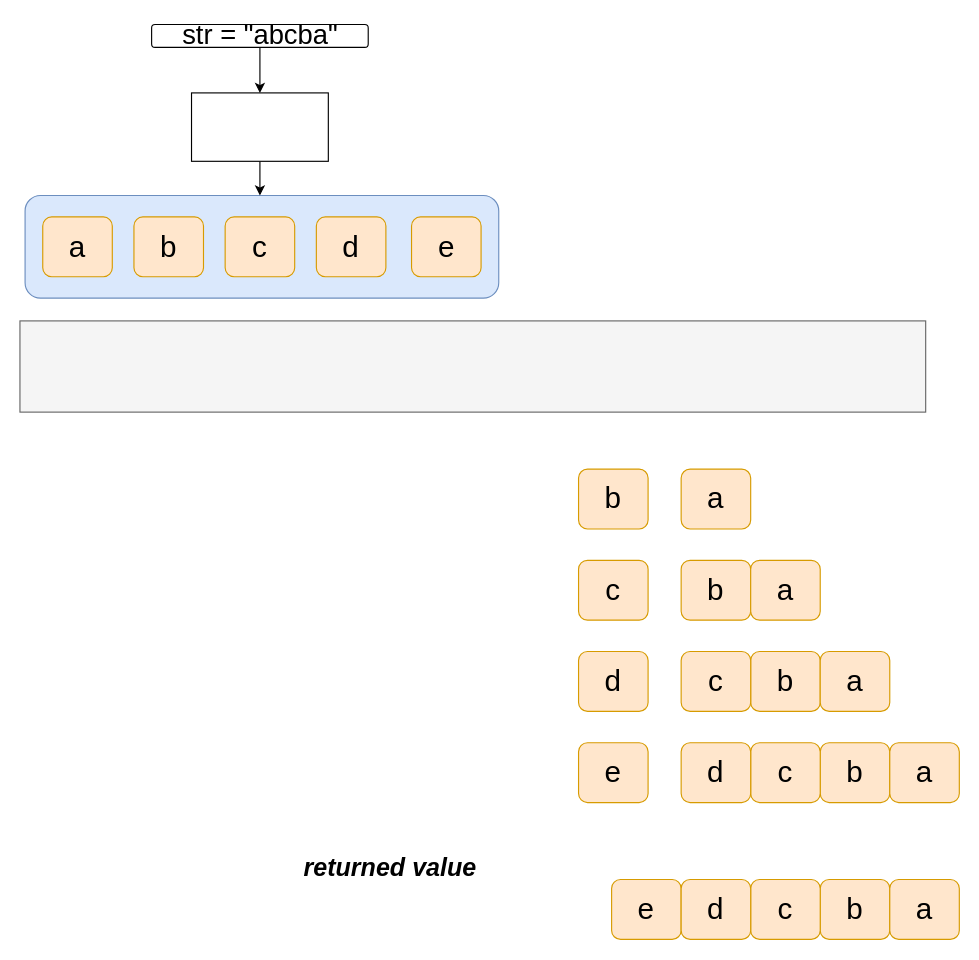
The diagram is 979 pixels wide and 960 high, and some of its shapes have lost their labels. The box of each missing label's shape, as (x1, y1, x2, y2) in pixels:
. reduce((accumulator, currentValue) => currentValue + accumulator): (19, 320, 926, 412)
[...str]: (190, 92, 328, 161)
